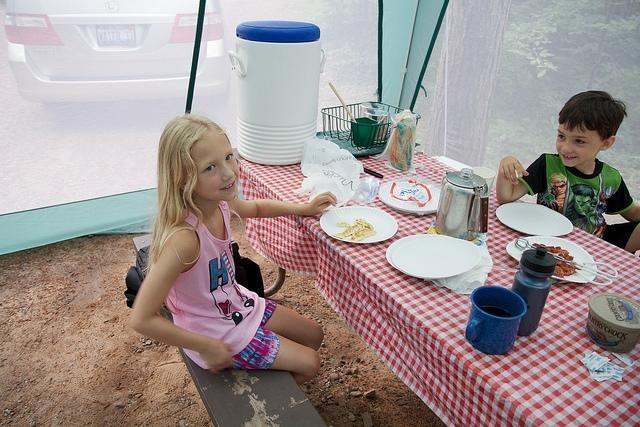car: (5, 2, 232, 110)
